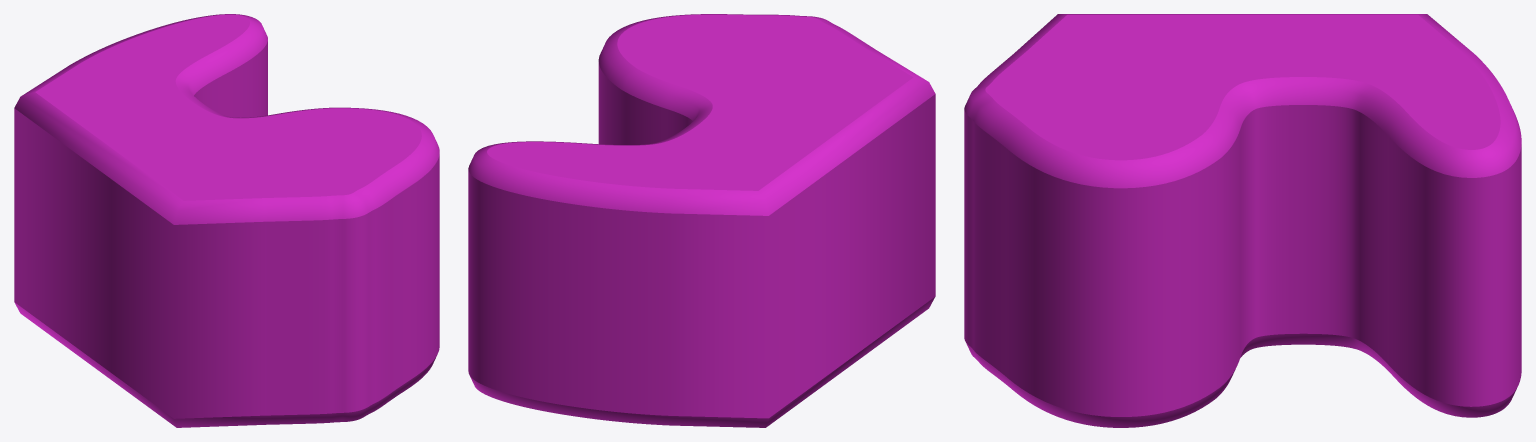
Rendered from Comma_CoolFont.fbx.
3 views of the same model, side by side, from view 1: azimuth 30°, elevation 25°; view 2: azimuth 150°, elevation 25°; view 3: azimuth 270°, elevation 25° (orthographic). The views are drawn at different scales.
Visible parts, largest first — view 1: Comma; view 2: Comma; view 3: Comma.
Part boxes in pixels (left/top/right/bottom): Comma: left=14, top=14, right=439, bottom=427; Comma: left=468, top=14, right=935, bottom=427; Comma: left=964, top=14, right=1521, bottom=427.
Bounding box in the file's own units: 0.1837 × 0.14 × 0.2648.
